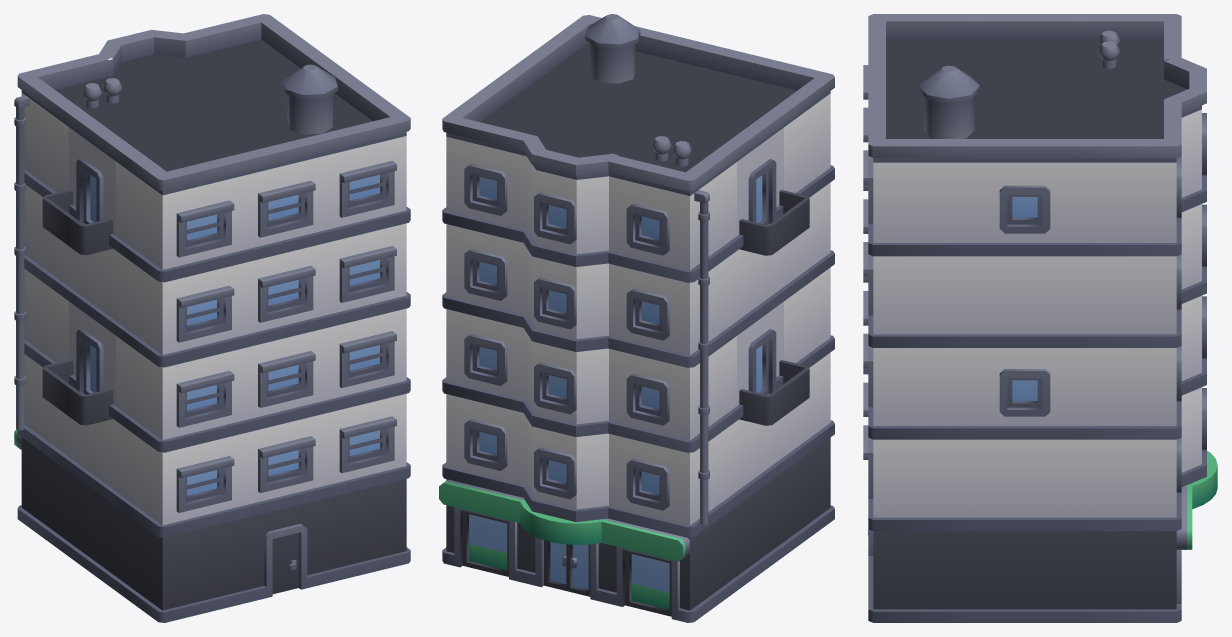
The model's file is c_building-l.glb.
3 renders of one model, left to right at view 1: azimuth 30°, elevation 25°; view 2: azimuth 150°, elevation 25°; view 3: azimuth 270°, elevation 25°, orthographic. The views are drawn at different scales.
Parts seen in each view (by area): view 1: building-l; view 2: building-l; view 3: building-l.
Part boxes in pixels (x1,y1,x2,y2): building-l: [14, 14, 410, 622]; building-l: [439, 14, 834, 622]; building-l: [863, 14, 1217, 622].
Size of the model in its own units: 1.37 by 2.27 by 1.4.
Materials: 1 (1 with a texture image).
